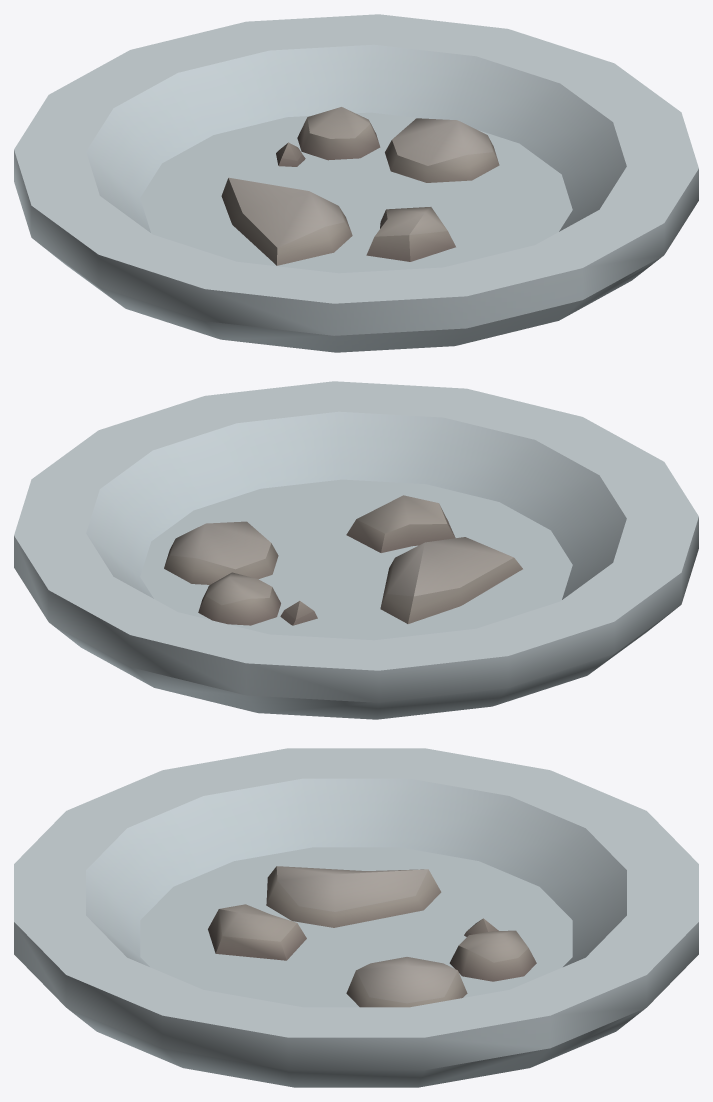
File: plate_dirty.glb
3 views of the same model, one above another, from view 1: azimuth 30°, elevation 25°; view 2: azimuth 150°, elevation 25°; view 3: azimuth 270°, elevation 25° (orthographic).
Parts seen in each view (by area): view 1: plate_dirty_Cylinder.572; view 2: plate_dirty_Cylinder.572; view 3: plate_dirty_Cylinder.572.
Boxes of the visible parts, bbox=[...] form: plate_dirty_Cylinder.572: bbox=[14, 14, 698, 352]; plate_dirty_Cylinder.572: bbox=[14, 381, 698, 719]; plate_dirty_Cylinder.572: bbox=[14, 748, 698, 1087].
Size of the model in its own units: 0.95 by 0.1 by 0.95.
Materials: 1 (1 with a texture image).
